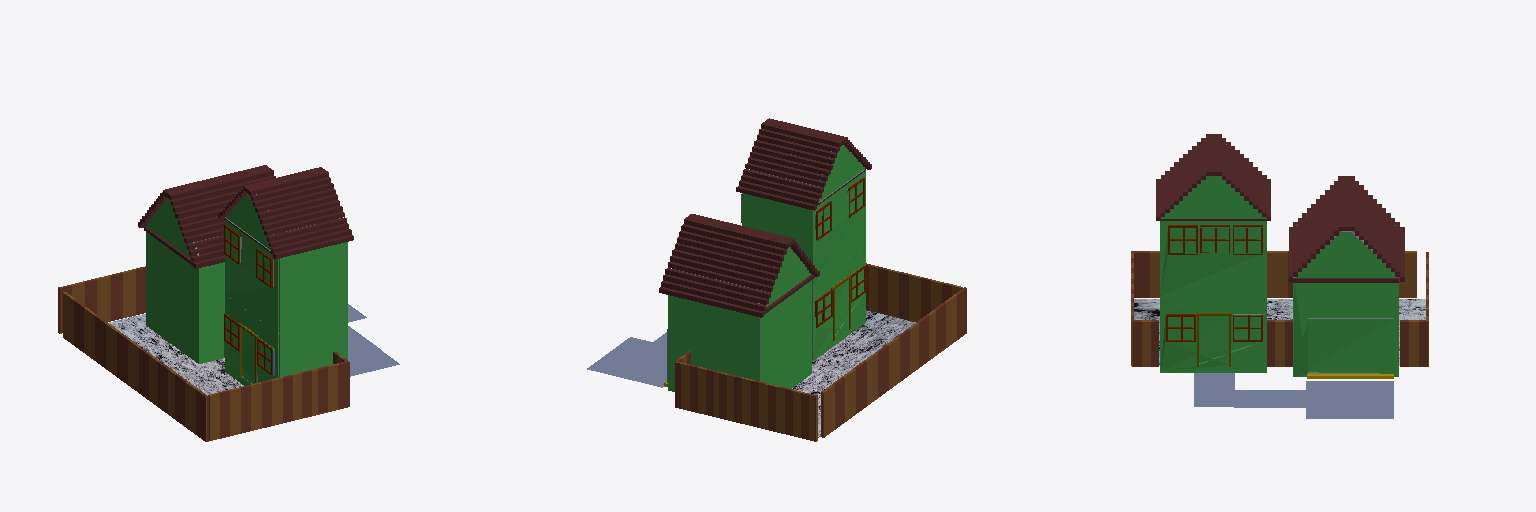
3 views of the same model, side by side, from view 1: azimuth 30°, elevation 25°; view 2: azimuth 150°, elevation 25°; view 3: azimuth 270°, elevation 25° (orthographic).
Visible parts, largest first — view 1: pasted__pasted__pCube5 pasted__group33 group99, group14_pasted__group12_pasted__pasted__group11_pasted__pasted__, pasted__pCube5 group33, pasted__pasted__pCube2 pasted__group2 group8, pasted__group14_pasted__group12_pasted__pasted__group11_pasted__, pasted__pasted__pCube1 pasted__group group24, group43_pasted__group40_pasted__pasted__group39_pasted__pasted__, polySurface9, pPlane1, pasted__pCube2 group2, polySurface17, pasted__pasted__pasted__pCube1 pasted__pasted__group pasted__gro (+4 smaller); view 2: pasted__group14_pasted__group12_pasted__pasted__group11_pasted__, pasted__pasted__pCube5 pasted__group33 group99, group14_pasted__group12_pasted__pasted__group11_pasted__pasted__, polySurface9, pasted__pasted__pasted__pCube1 pasted__pasted__group pasted__gro, pasted__pasted__pCube1 pasted__group group24, pPlane1, group43_pasted__group40_pasted__pasted__group39_pasted__pasted__, pasted__pCube5 group33, polySurface17, pPlane2, pasted__pasted__pasted__pCube2 pasted__pasted__group2 pasted__gr (+2 smaller); view 3: group27_pasted__group24_pasted__pasted__group_pasted__pasted__pa, pasted__pasted__pasted__pasted__pasted__polySurface2, polySurface18, pasted__group14_pasted__group12_pasted__pasted__group11_pasted__, group14_pasted__group12_pasted__pasted__group11_pasted__pasted__, pPlane2, pasted__pasted__pCube5 pasted__group33 group99, pasted__pasted__pasted__pasted__pCube1 pasted__pasted__pasted__g, pasted__pasted__pasted__pCube5 pasted__pasted__group33 pasted__g, pCube4, pPlane1, pPlane4 (+3 smaller).
Boxes of the visible parts, box(x1,y1,x2,y2) form: pasted__pasted__pCube5 pasted__group33 group99: box(63, 292, 208, 441); group14_pasted__group12_pasted__pasted__group11_pasted__pasted__: box(218, 167, 353, 258); pasted__pCube5 group33: box(208, 361, 347, 440); pasted__pasted__pCube2 pasted__group2 group8: box(279, 242, 346, 332); pasted__group14_pasted__group12_pasted__pasted__group11_pasted__: box(138, 165, 275, 268); pasted__pasted__pCube1 pasted__group group24: box(147, 233, 198, 363); group43_pasted__group40_pasted__pasted__group39_pasted__pasted__: box(225, 220, 278, 332); polySurface9: box(58, 266, 145, 333); pPlane1: box(109, 314, 243, 395); pasted__pCube2 group2: box(279, 318, 346, 377); polySurface17: box(224, 296, 278, 385); pasted__pasted__pasted__pCube1 pasted__pasted__group pasted__gro: box(146, 232, 224, 363); pasted__group14_pasted__group12_pasted__pasted__group11_pasted__: box(659, 214, 819, 317); pasted__pasted__pCube5 pasted__group33 group99: box(821, 287, 966, 437); group14_pasted__group12_pasted__pasted__group11_pasted__pasted__: box(736, 118, 871, 210); polySurface9: box(675, 361, 817, 441); pasted__pasted__pasted__pCube1 pasted__pasted__group pasted__gro: box(668, 280, 811, 391); pasted__pasted__pCube1 pasted__group group24: box(759, 281, 810, 388); pPlane1: box(792, 310, 915, 437); group43_pasted__group40_pasted__pasted__group39_pasted__pasted__: box(811, 171, 865, 284); pasted__pCube5 group33: box(866, 263, 962, 321); polySurface17: box(812, 247, 865, 360); pPlane2: box(587, 337, 666, 387); pasted__pasted__pasted__pCube2 pasted__pasted__group2 pasted__gr: box(744, 194, 810, 258); group27_pasted__group24_pasted__pasted__group_pasted__pasted__pa: box(1294, 283, 1396, 376); pasted__pasted__pasted__pasted__pasted__polySurface2: box(1160, 221, 1266, 295); polySurface18: box(1160, 297, 1266, 371); pasted__group14_pasted__group12_pasted__pasted__group11_pasted__: box(1289, 176, 1404, 281); group14_pasted__group12_pasted__pasted__group11_pasted__pasted__: box(1156, 134, 1270, 220); pPlane2: box(1306, 381, 1393, 418); pasted__pasted__pCube5 pasted__group33 group99: box(1131, 251, 1416, 297); pasted__pasted__pasted__pasted__pCube1 pasted__pasted__pasted__g: box(1295, 231, 1398, 277); pasted__pasted__pasted__pCube5 pasted__pasted__group33 pasted__g: box(1132, 320, 1426, 366); pCube4: box(1161, 176, 1266, 218); pPlane1: box(1134, 299, 1425, 365); pPlane4: box(1194, 373, 1234, 406).
Size of the model in its own units: 21.37 by 16.68 by 22.17.
Materials: 62 (15 with a texture image).